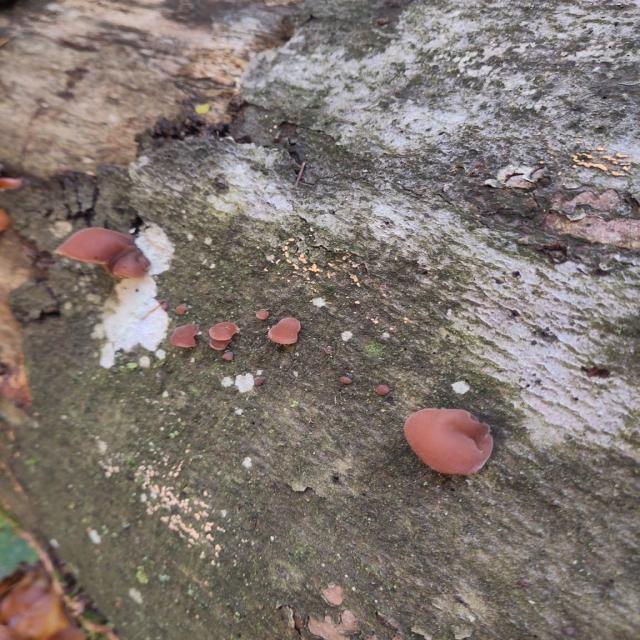Fase Muda: (401, 404, 504, 482), (56, 224, 152, 286)
primordia: (264, 314, 305, 349), (206, 316, 240, 356), (170, 319, 204, 352), (174, 300, 190, 318), (337, 372, 355, 388), (370, 383, 392, 396), (221, 348, 237, 365), (256, 304, 268, 324)
